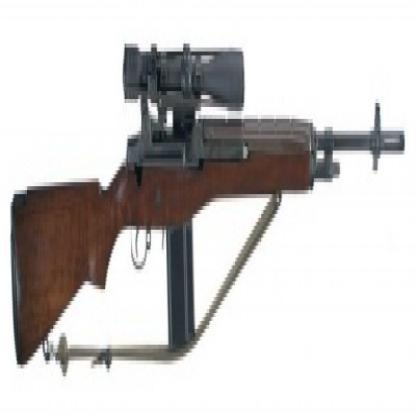Guns: (7, 24, 415, 412)
